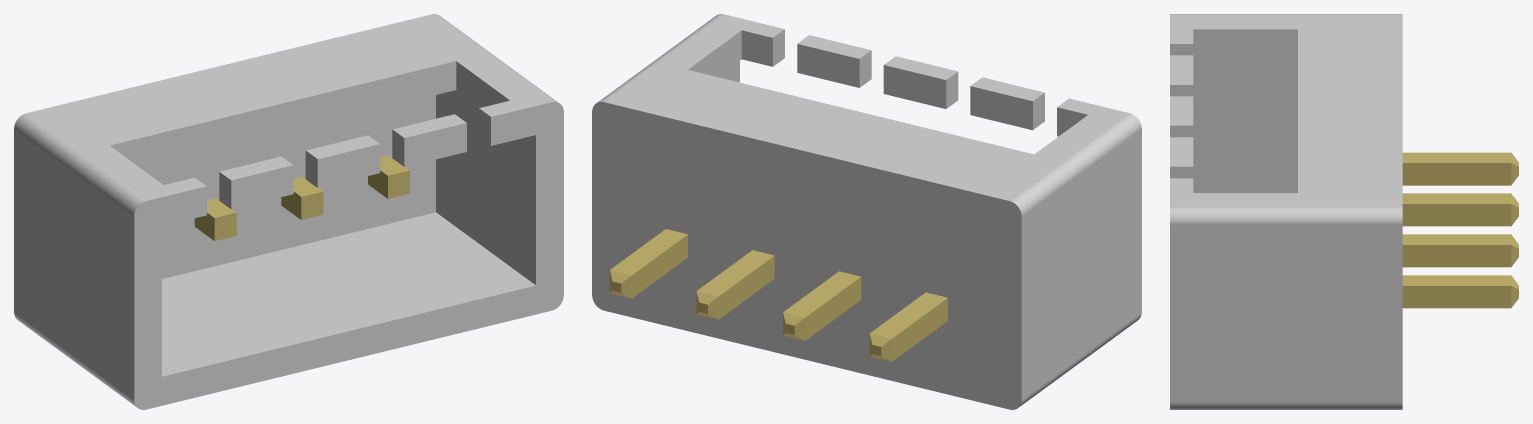
File: jst_xh_4pin.glb
The picture shows the model from 3 angles, left to right: view 1: azimuth 30°, elevation 25°; view 2: azimuth 150°, elevation 25°; view 3: azimuth 270°, elevation 25°; orthographic projection. The views are drawn at different scales.
Parts seen in each view (by area): view 1: world; view 2: world; view 3: world.
Part boxes in pixels (x1,y1,x2,y2): world: (14,14,563,409); world: (592,14,1141,409); world: (1170,14,1518,409).
Bounding box in the file's own units: 12.4 × 5.75 × 9.
